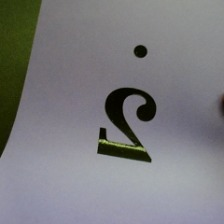violet2: (90, 40, 165, 174)
